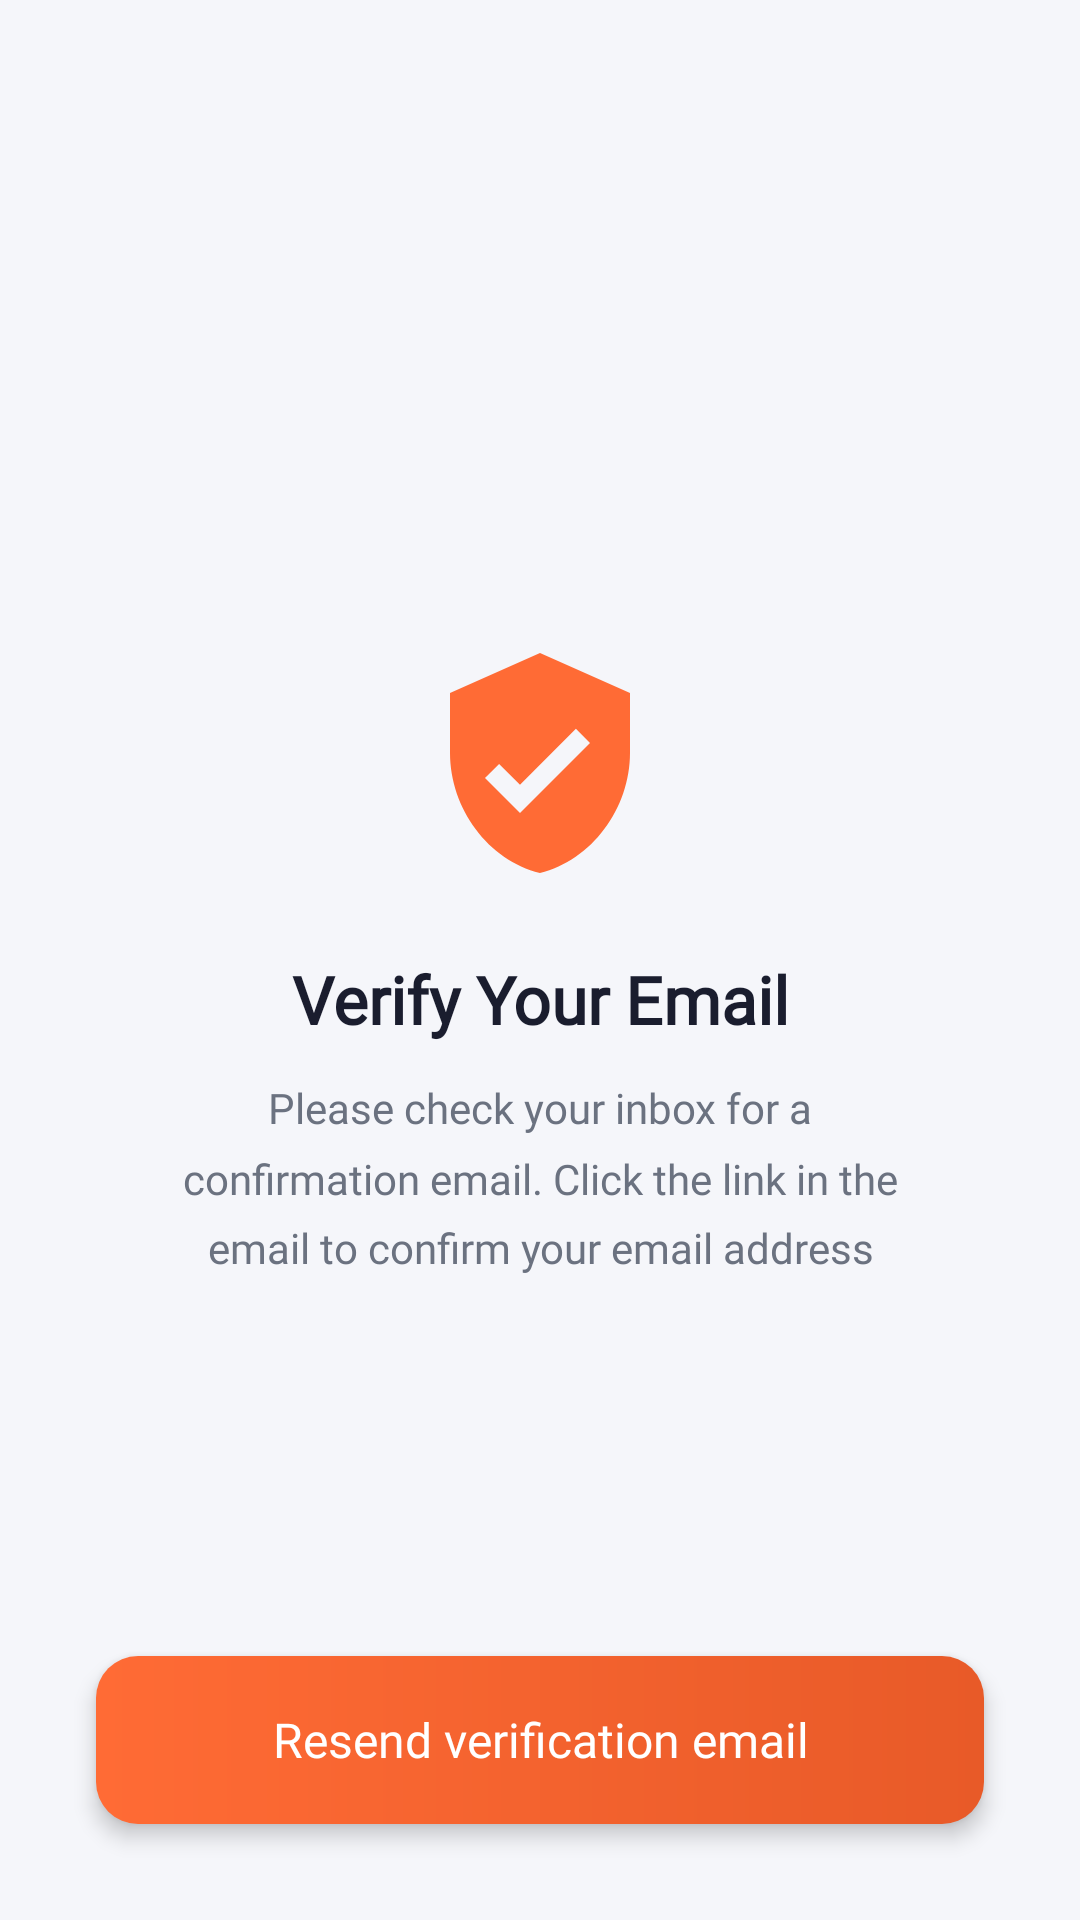

Locate icon controls on the screen. Image size 1080 × 1920, boxes as (x1, y1, x2, y2).
Account Verification: (450, 653, 630, 873)
